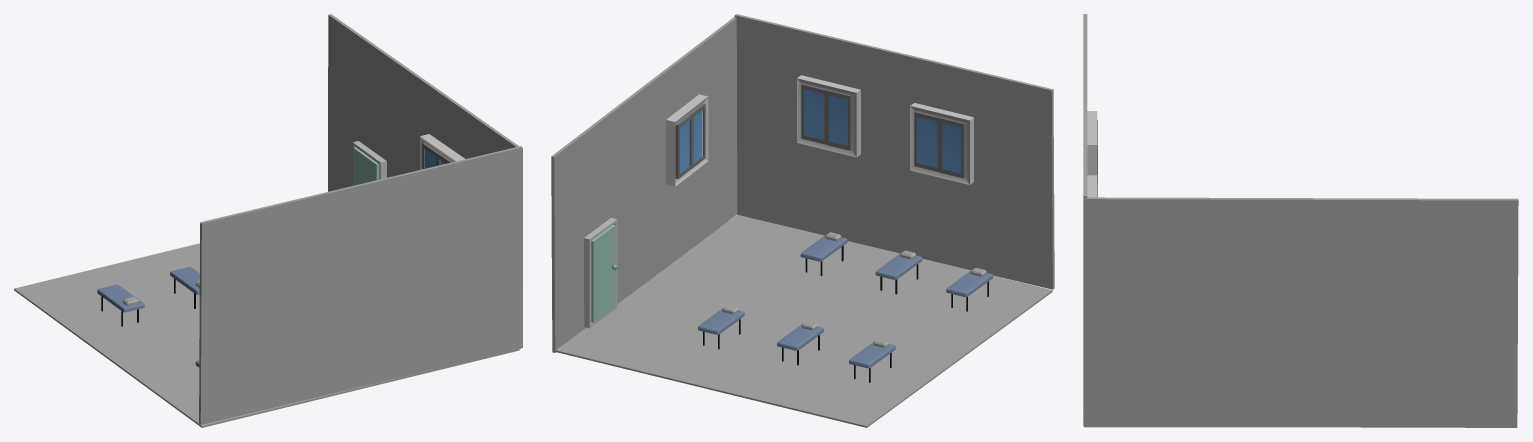
The model's file is internalroom1.fbx.
The picture shows the model from 3 angles, left to right: view 1: azimuth 30°, elevation 25°; view 2: azimuth 150°, elevation 25°; view 3: azimuth 270°, elevation 25°; orthographic projection. The views are drawn at different scales.
Parts seen in each view (by area): view 1: pCube4, pCube1, pasted__pCube4, pasted__pasted__pCube5, pCube8, pasted__pasted__pCube2, pasted__pasted__pasted__pCube2; view 2: pCube4, pCube1, pasted__pCube4, pasted__pCube5, pCube5, pasted__pasted__pCube5, pCube8, pasted__pasted__pasted__pCube2 (×2), pasted__pCube2 (×2), pCube7, pasted__pCube6 (×2), pasted__pasted__pCube6 (×2) (+4 smaller); view 3: pasted__pCube4, pCube4, pasted__pCube5.
Part boxes in pixels (box(x1,y1,x2,y2)): pCube4: box(199, 146, 522, 424); pCube1: box(14, 243, 519, 427); pasted__pCube4: box(328, 14, 522, 347); pasted__pasted__pCube5: box(420, 134, 465, 169); pCube8: box(354, 148, 379, 185); pasted__pasted__pCube2: box(97, 284, 144, 312); pasted__pasted__pasted__pCube2: box(170, 266, 199, 294); pCube4: box(734, 14, 1054, 289); pCube1: box(555, 214, 1052, 427); pasted__pCube4: box(551, 17, 737, 352); pasted__pCube5: box(910, 103, 973, 184); pCube5: box(797, 75, 860, 157); pasted__pasted__pCube5: box(666, 94, 708, 186); pCube8: box(591, 225, 615, 322); pasted__pasted__pasted__pCube2 (×2): box(698, 307, 823, 350); pasted__pCube2 (×2): box(875, 252, 992, 297); pCube7: box(584, 218, 617, 328); pasted__pCube6 (×2): box(826, 89, 940, 172); pasted__pasted__pCube6 (×2): box(675, 114, 964, 179); pasted__pCube4: box(1083, 197, 1518, 427); pCube4: box(1083, 14, 1087, 425); pasted__pCube5: box(1087, 111, 1097, 175).
Bounding box in the file's own units: 24.41 × 14.84 × 24.81.
